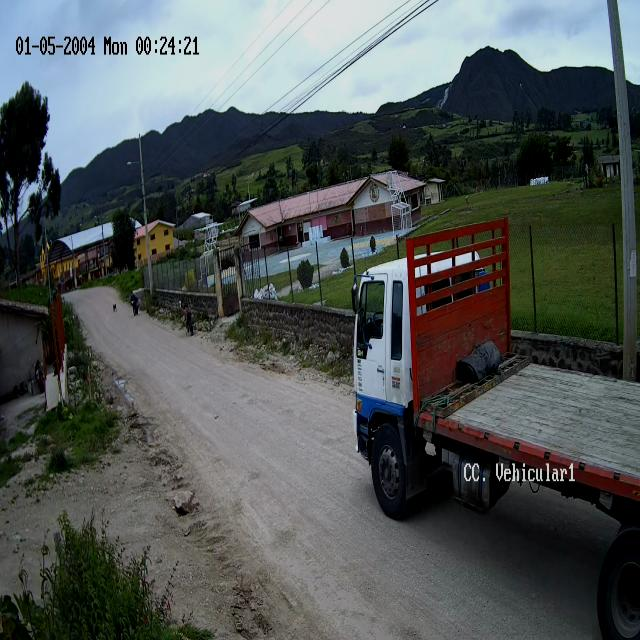TRUCK: (352, 219, 640, 543)
